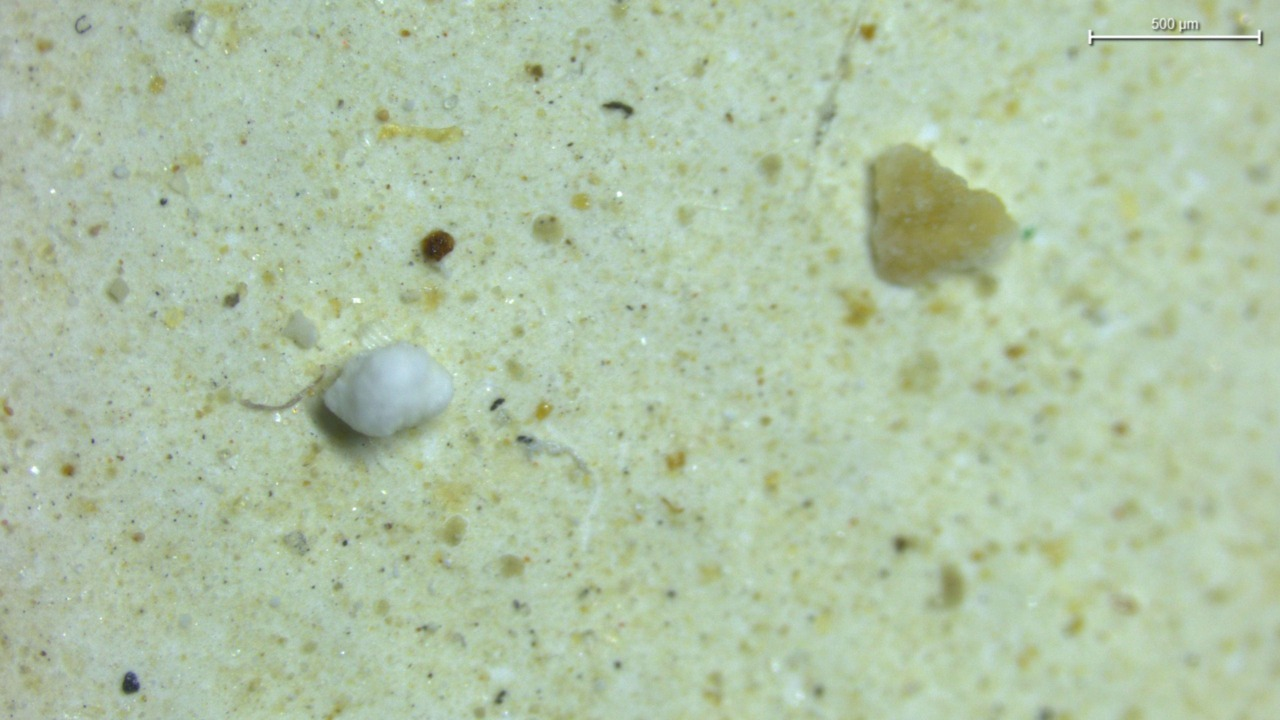microplastic_fragment: (869, 144, 1018, 286), (324, 342, 452, 437), (283, 311, 317, 348)
